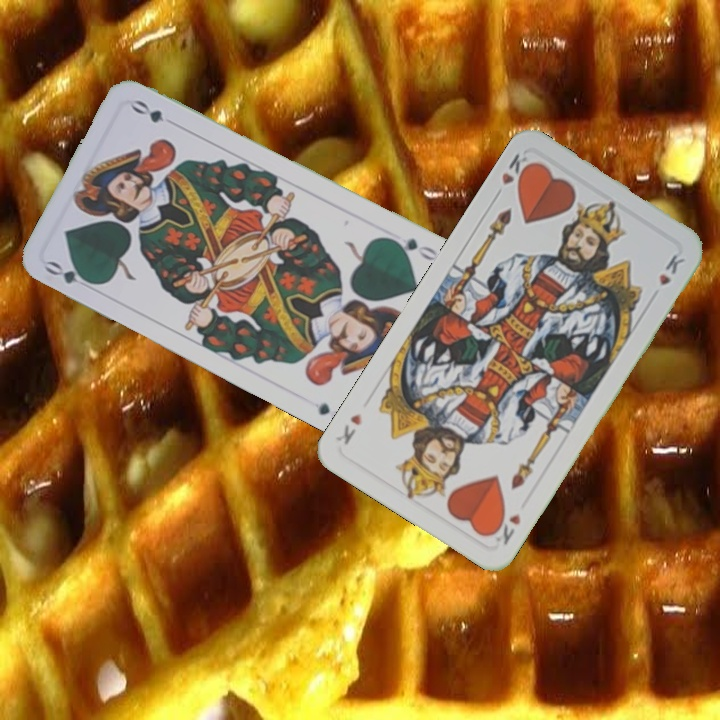GO: (41, 256, 99, 288), (384, 234, 440, 264)
HK: (490, 149, 536, 202), (487, 507, 523, 548)
